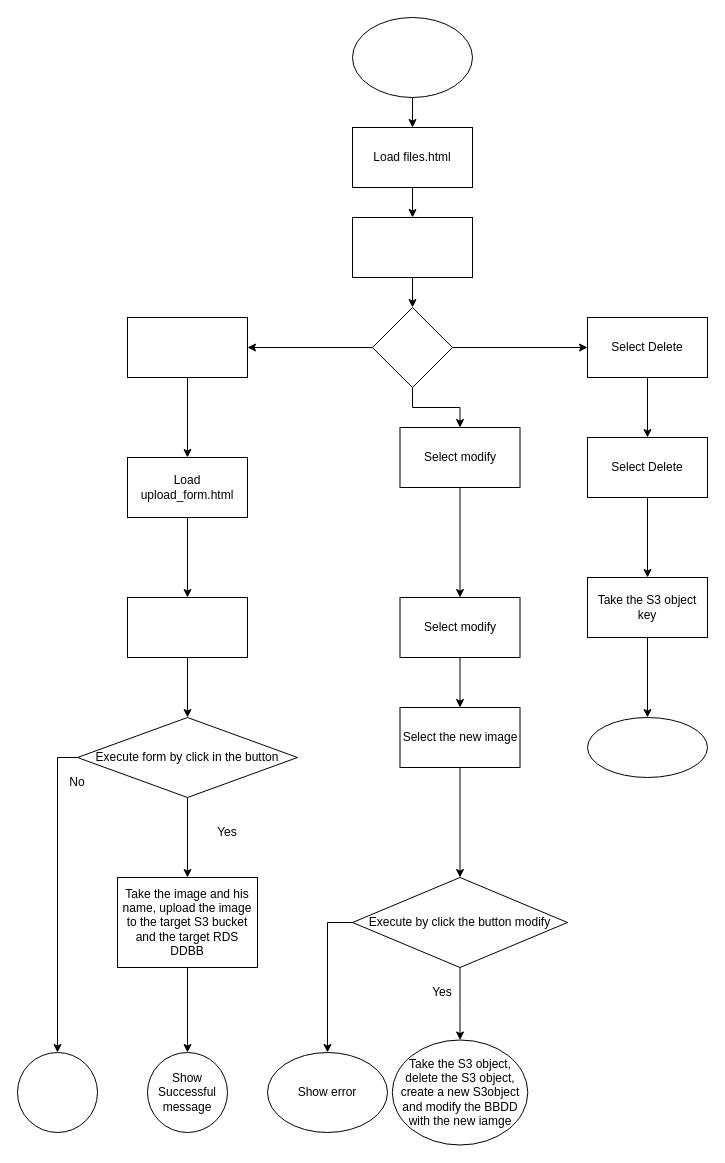
Image size: 725x1163. Some labels were removed from this diagram. Each missing label, with the centre of its shape:
"Delete the S3 object in the target S3 Bucket and the DDBB" goes at (647,747).
"Load the S3 object from the target S3 bucket" goes at (412,247).
"Options" goes at (412,347).
"Select the image from local that you want to upload" goes at (187,627).
"Select Upload" goes at (187,347).
"Show Error Message" goes at (57,1092).
"Start" goes at (412,57).
